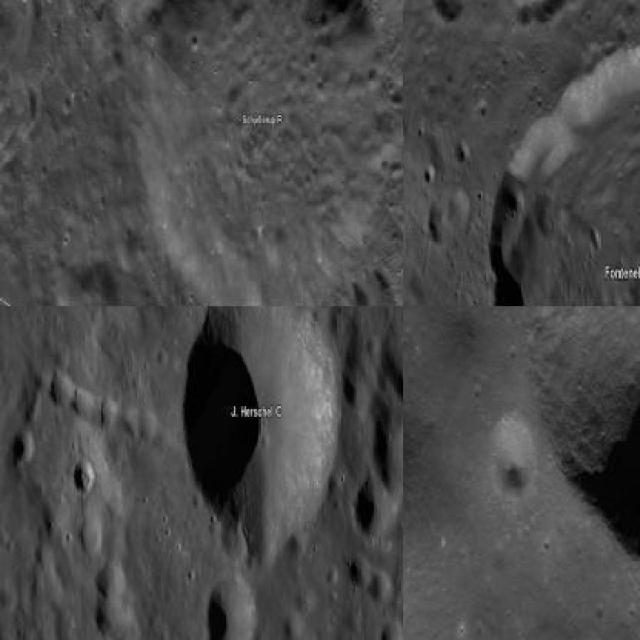crater: (135, 0, 400, 305), (489, 44, 638, 304), (182, 306, 340, 548), (530, 306, 638, 572), (491, 416, 534, 502), (206, 577, 257, 638), (12, 428, 34, 464), (74, 460, 95, 494)
